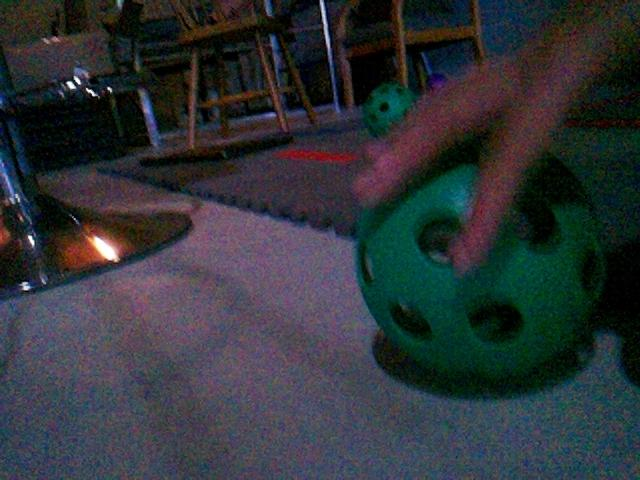Green: (353, 156, 601, 386), (361, 82, 418, 138)
Purple: (425, 72, 446, 91)
